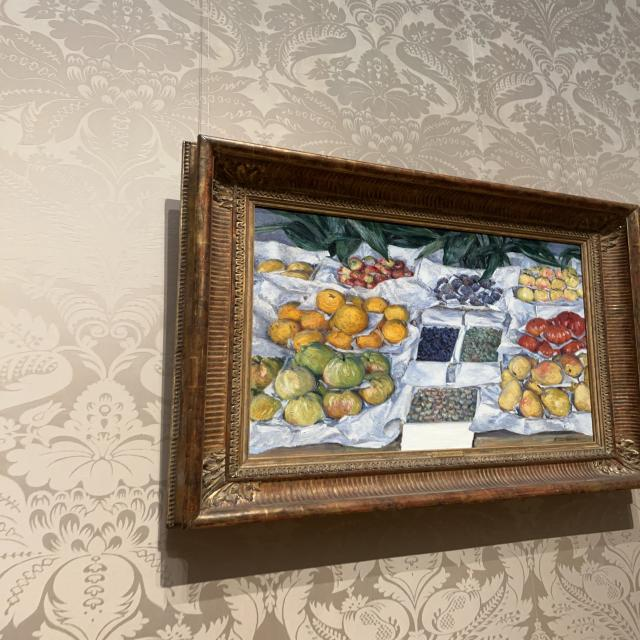fruits: (252, 208, 590, 456)
